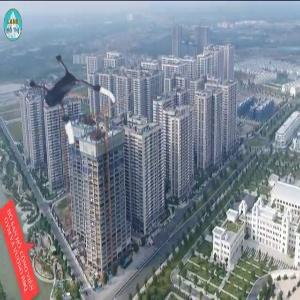drone: (16, 48, 119, 151)
